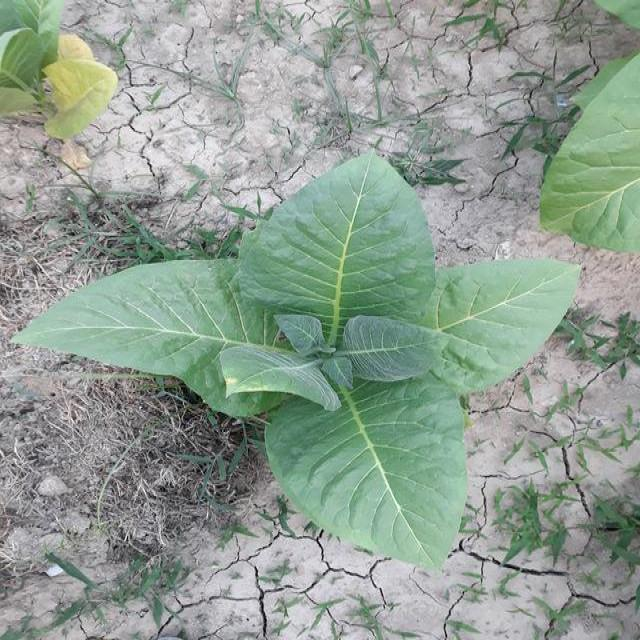crop: (8, 144, 577, 590)
